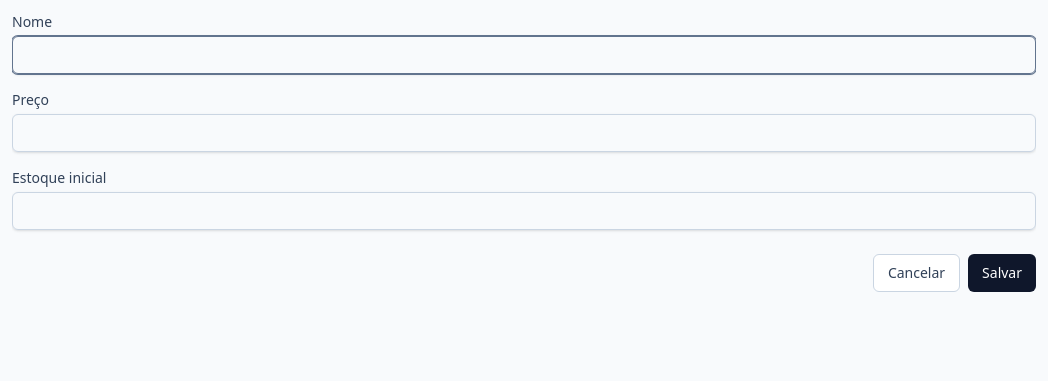
Test: CriarProdutoForm › exibe erros de validação ao submeter valores inválidos
Type "-5" into the number field labelled "Preço" at (524, 133), box top-left (12, 114), bottom-right (1036, 152)
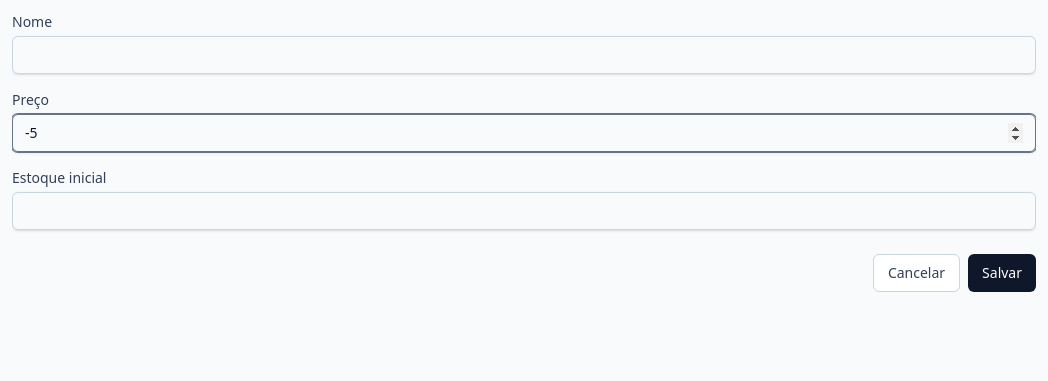
Click the button "Salvar" at (1002, 273), box top-left (968, 254), bottom-right (1036, 292)
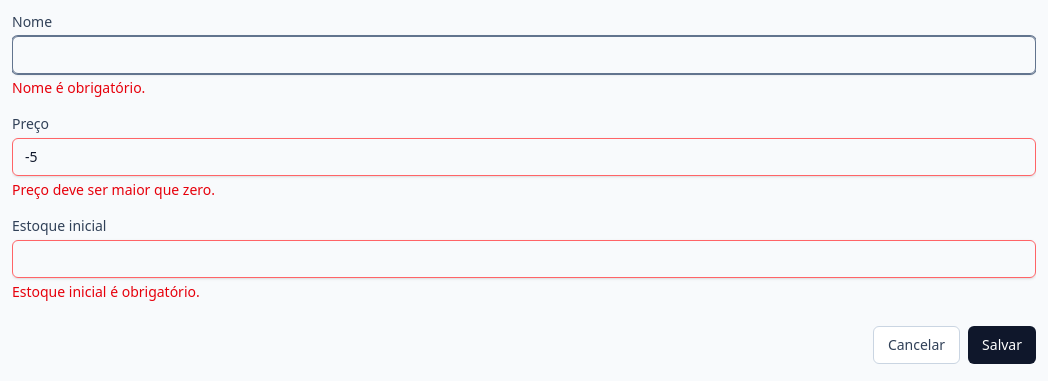
expect the text "Nome é obrigatório." is shown: met, box top-left (12, 78), bottom-right (145, 97)
expect the text "Preço deve ser maior que zero." is shown: met, box top-left (12, 180), bottom-right (215, 199)
